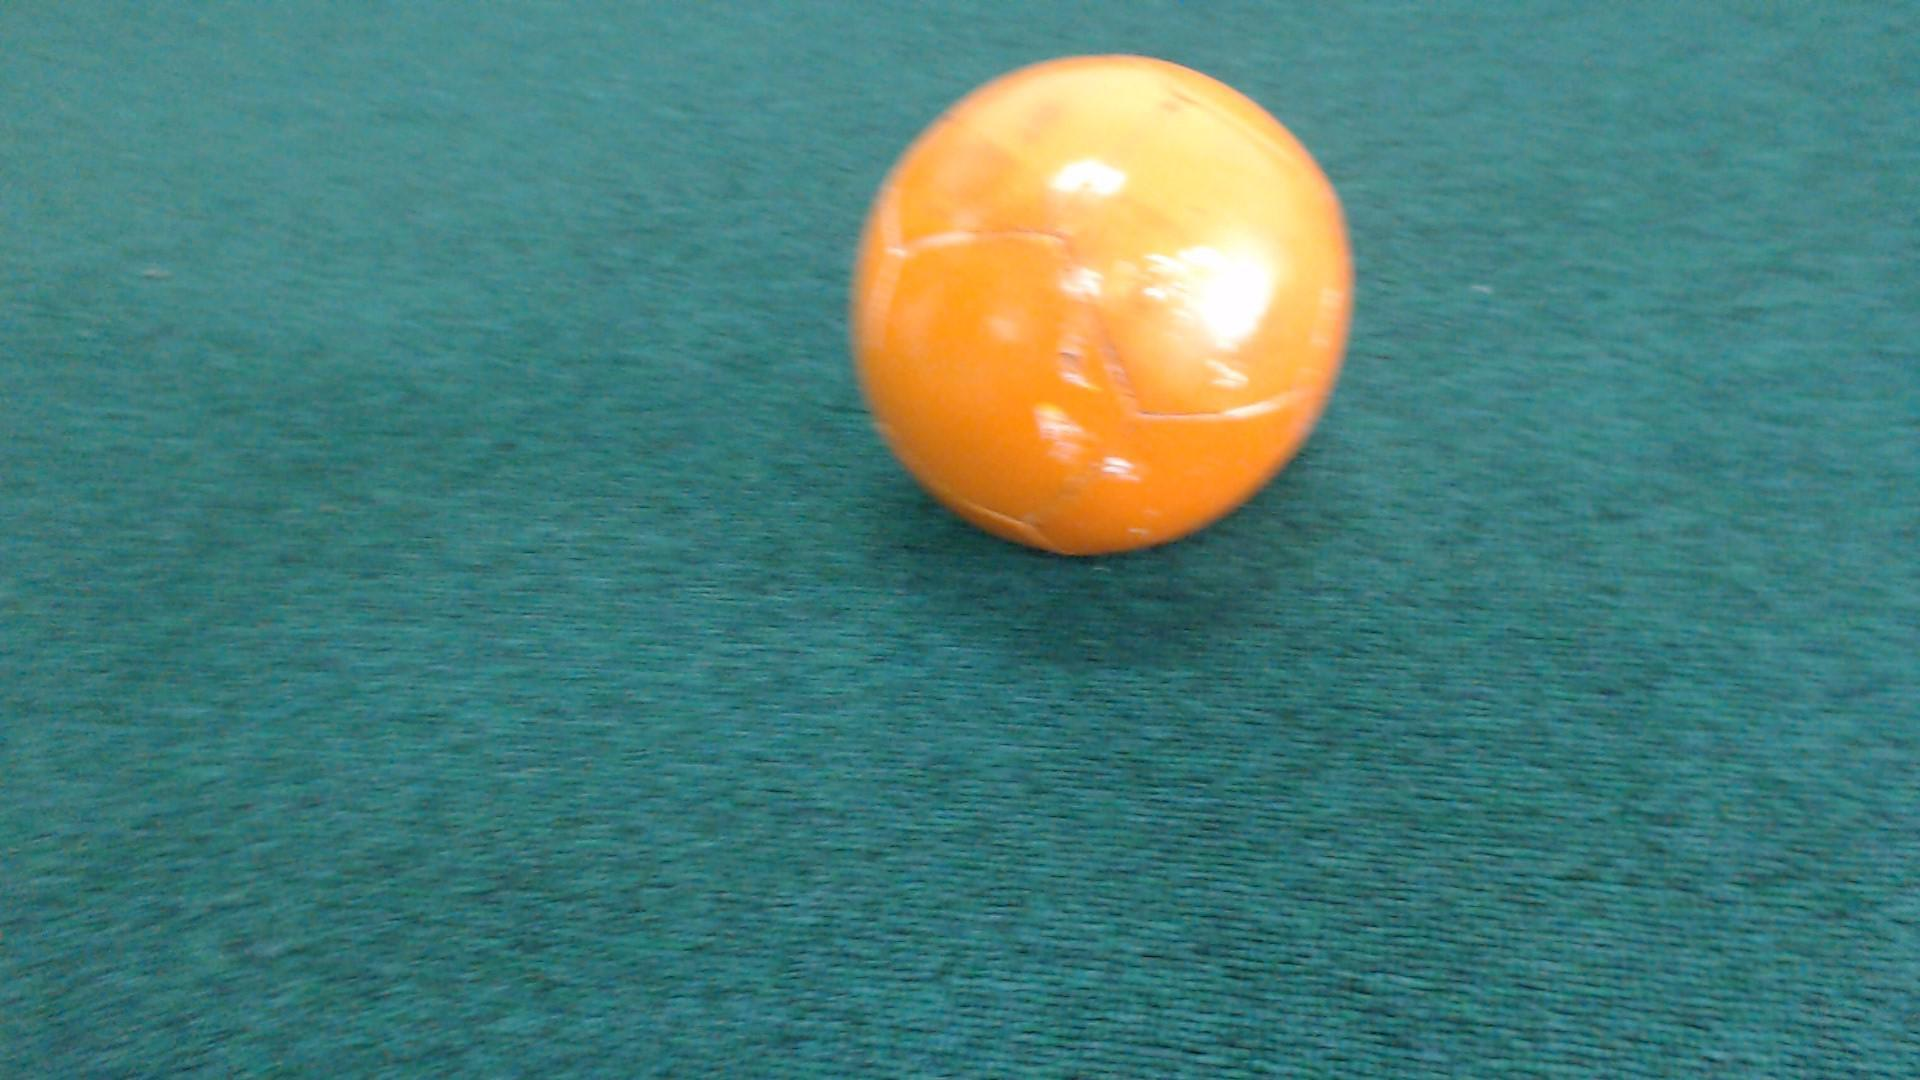bola: (825, 29, 1367, 575)
